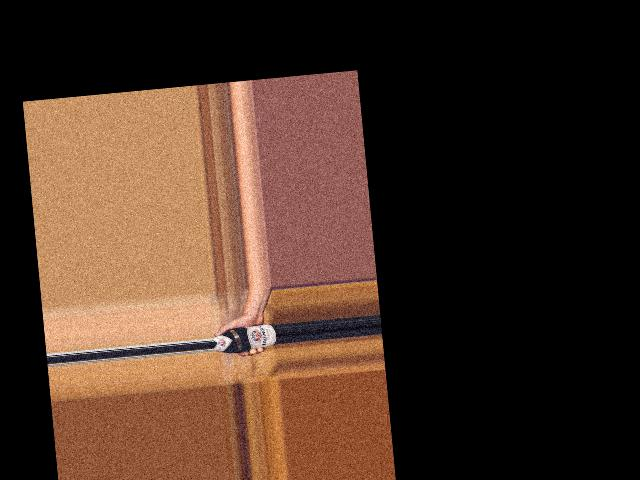beer: (212, 322, 278, 354)
